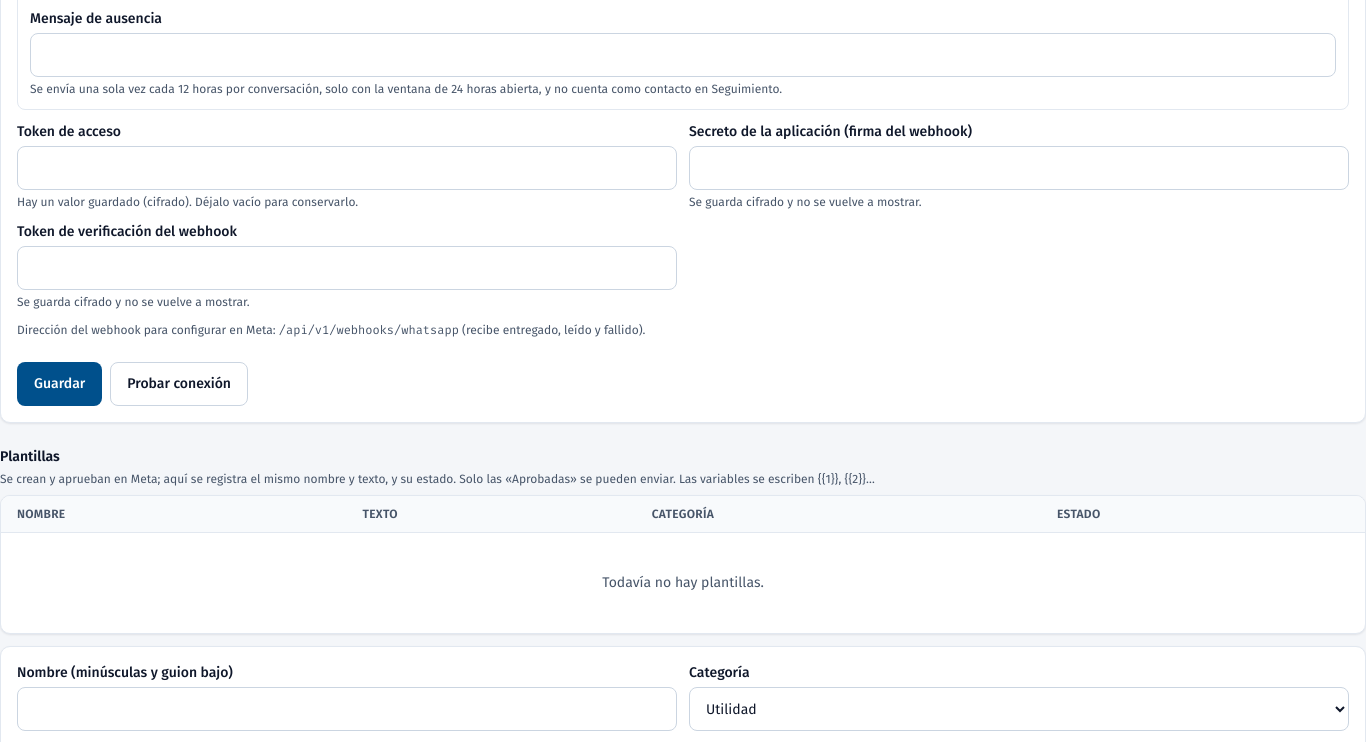
Test case: WhatsApp › la administración ve la cuenta sin credenciales, prueba la conexión y ve el registro
(page scrolled)
Expected: the password field labelled "Token de acceso" is empty, [17,146,677,190]
Click the button "Probar conexión": (179,384) [110,362,248,406]
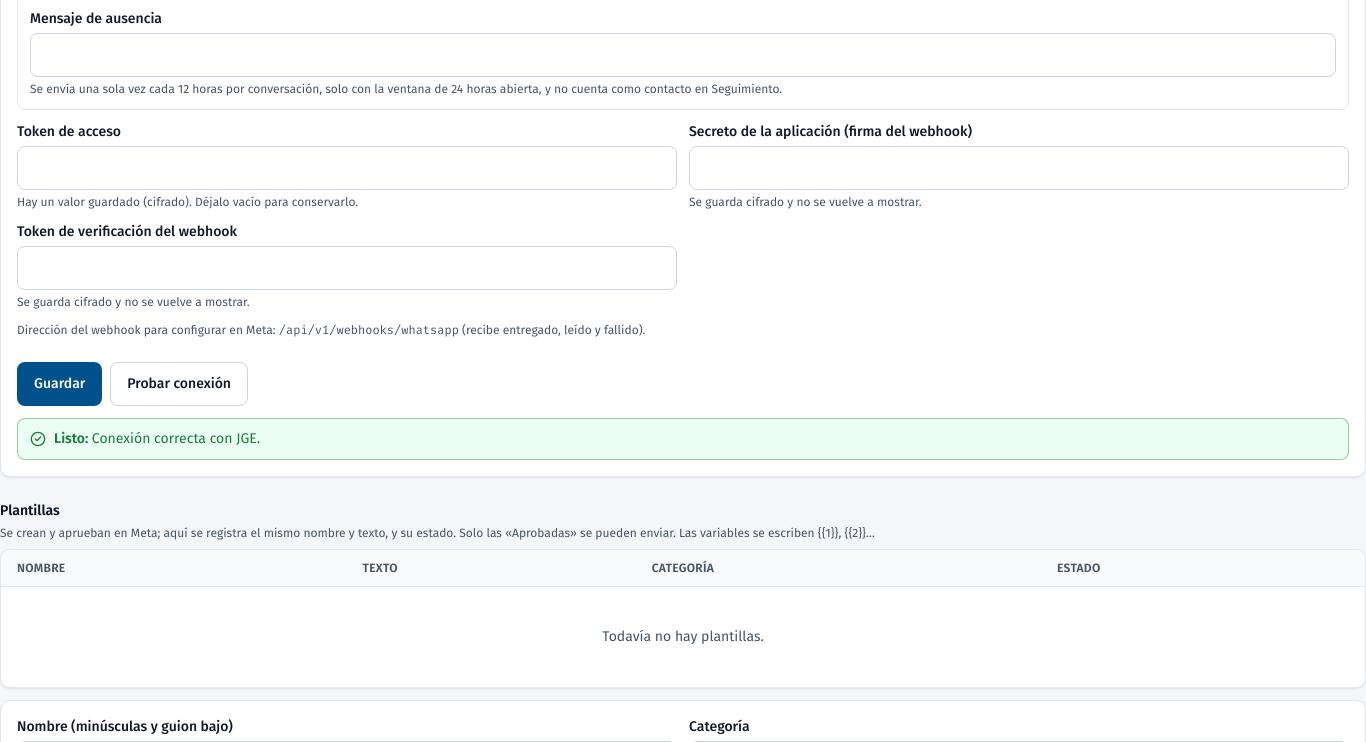
Result: the text "Conexión correcta con JGE." is shown at [92,430,260,447]
